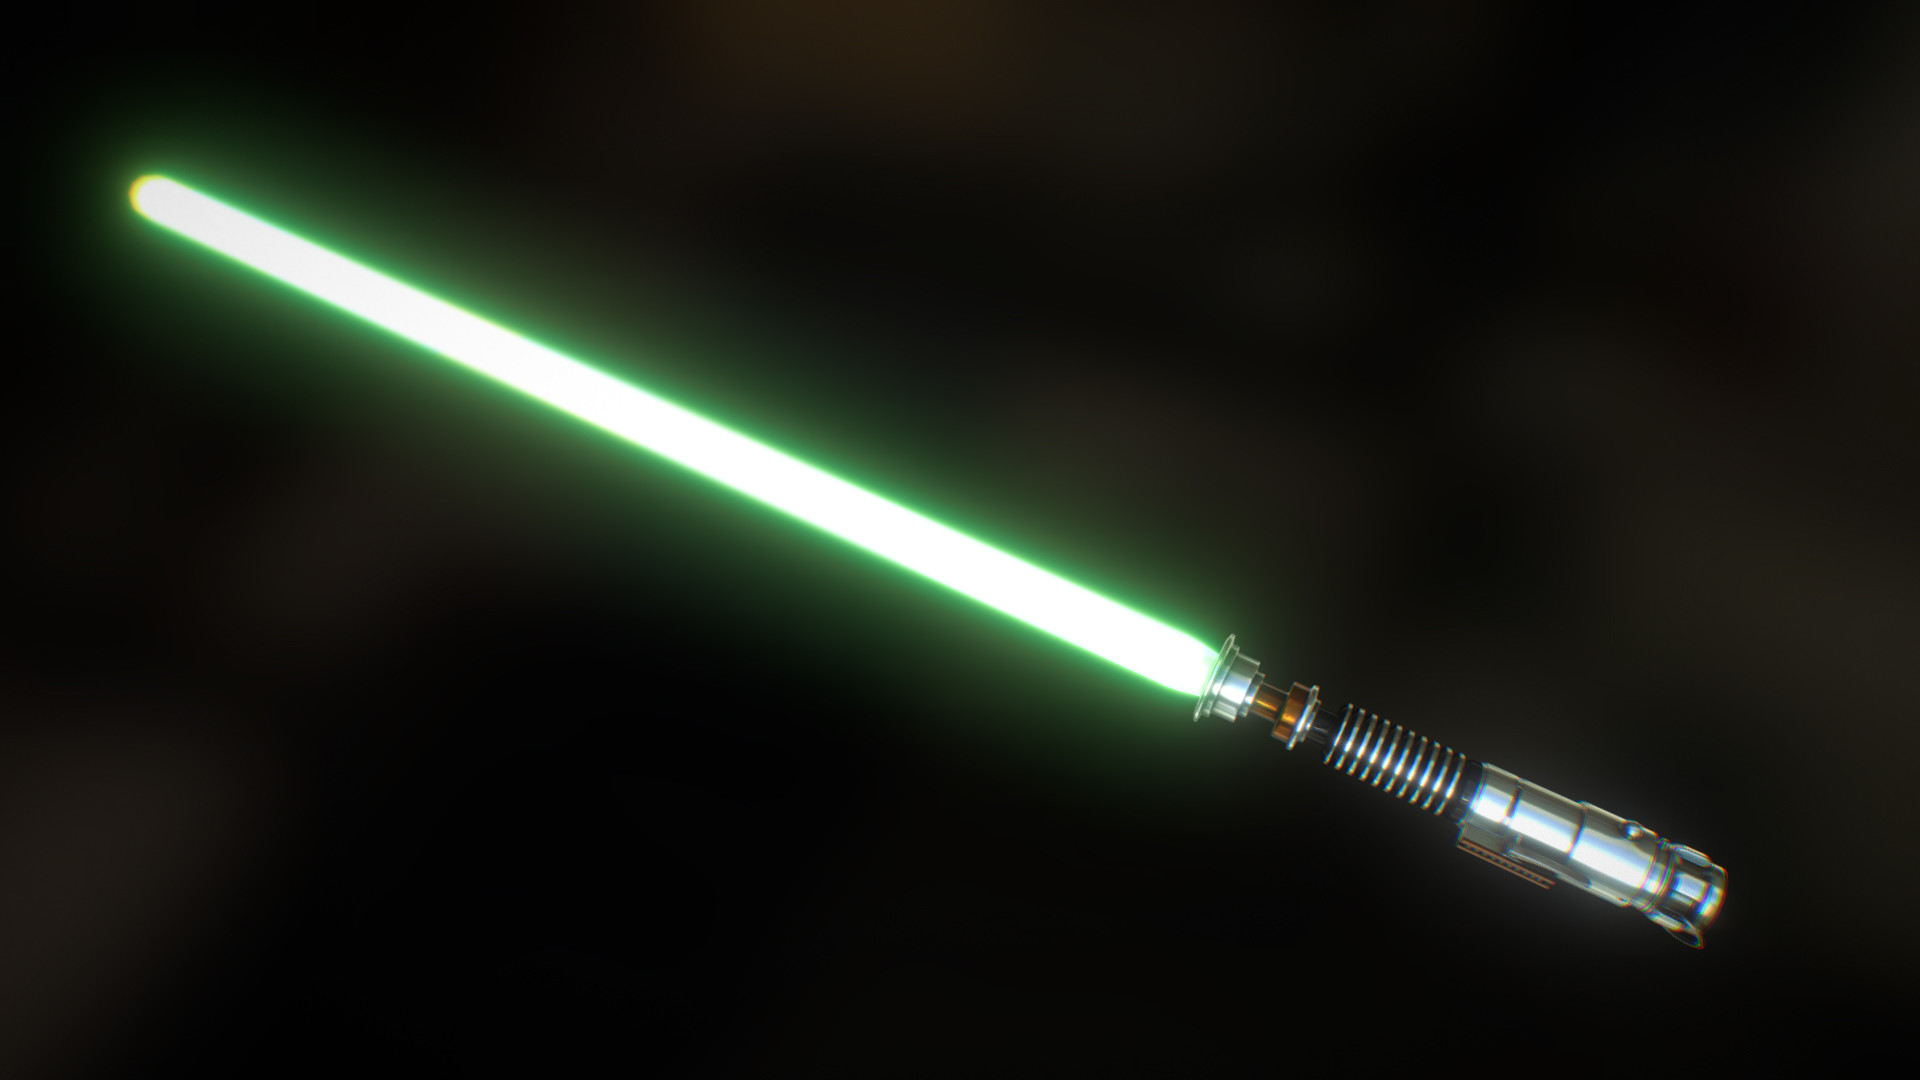lightsaber: (141, 69, 1784, 949)
